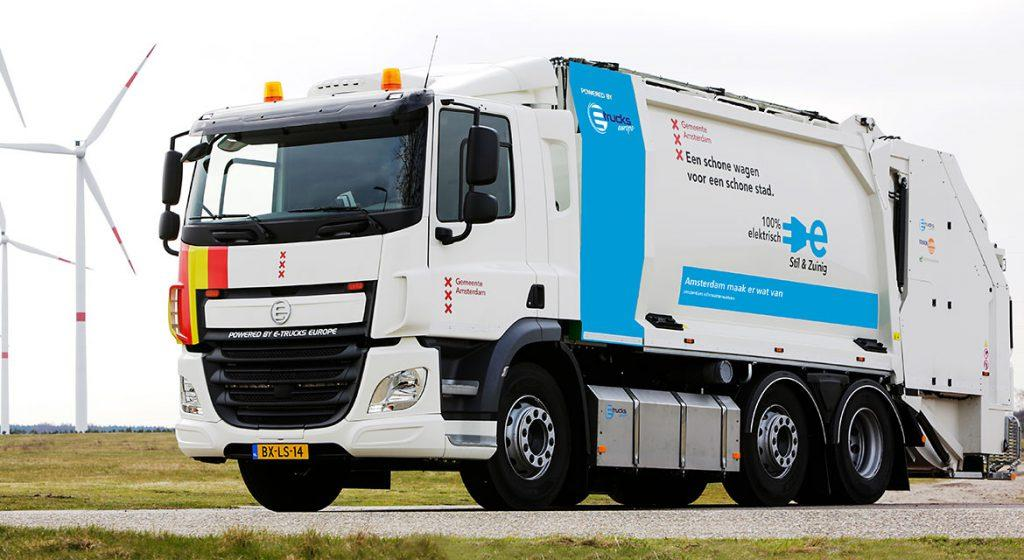truck: (159, 57, 1022, 509)
